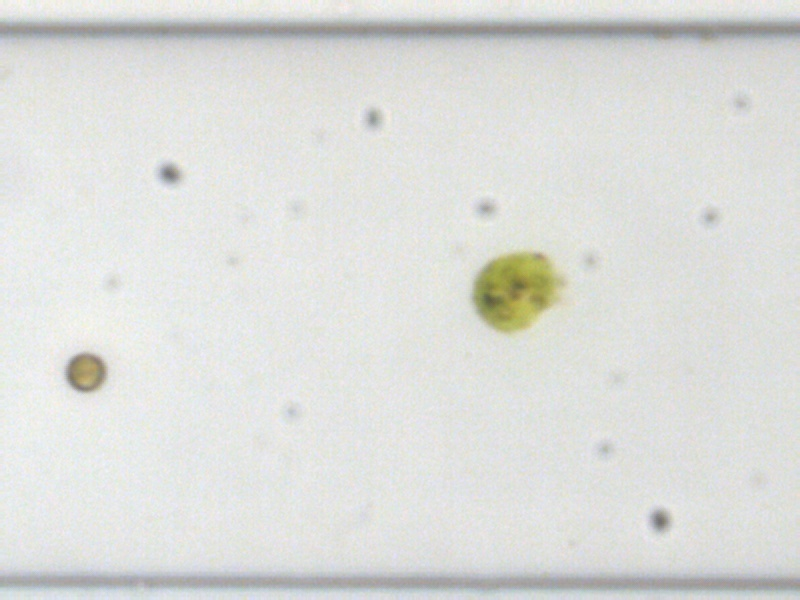Effrenium: (63, 348, 108, 392)
Haematococcus: (468, 247, 565, 336)
